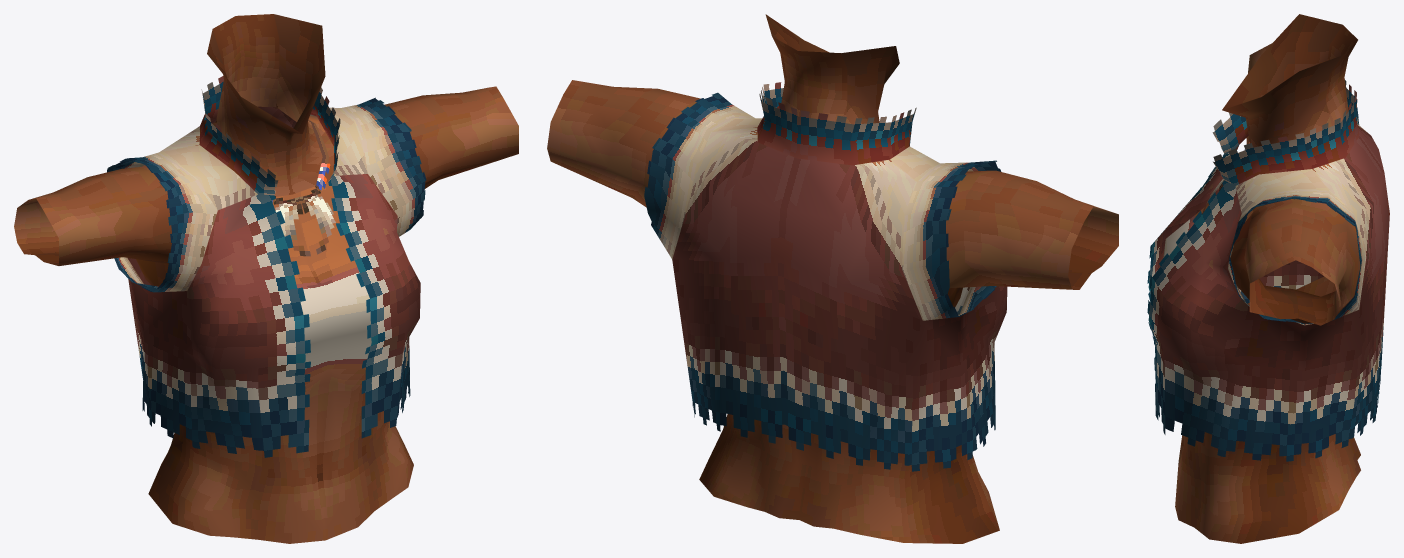
File: f_body194.glb
3 views of the same model, side by side, from view 1: azimuth 30°, elevation 25°; view 2: azimuth 150°, elevation 25°; view 3: azimuth 270°, elevation 25° (orthographic). The views are drawn at different scales.
Size of the model in its own units: 61.81 by 58.88 by 27.76.
1 material, 1 textured.
